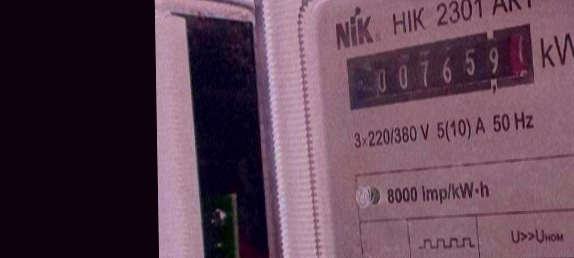0: (375, 63, 389, 92), (396, 61, 410, 88)
1: (514, 32, 526, 63)
5: (462, 45, 478, 77)
6: (440, 52, 454, 83)
7: (417, 55, 432, 87)
9: (486, 41, 502, 76)
screen: (332, 16, 554, 114)
